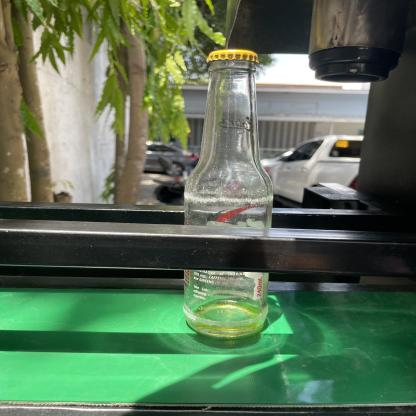Can: (181, 47, 272, 340)
